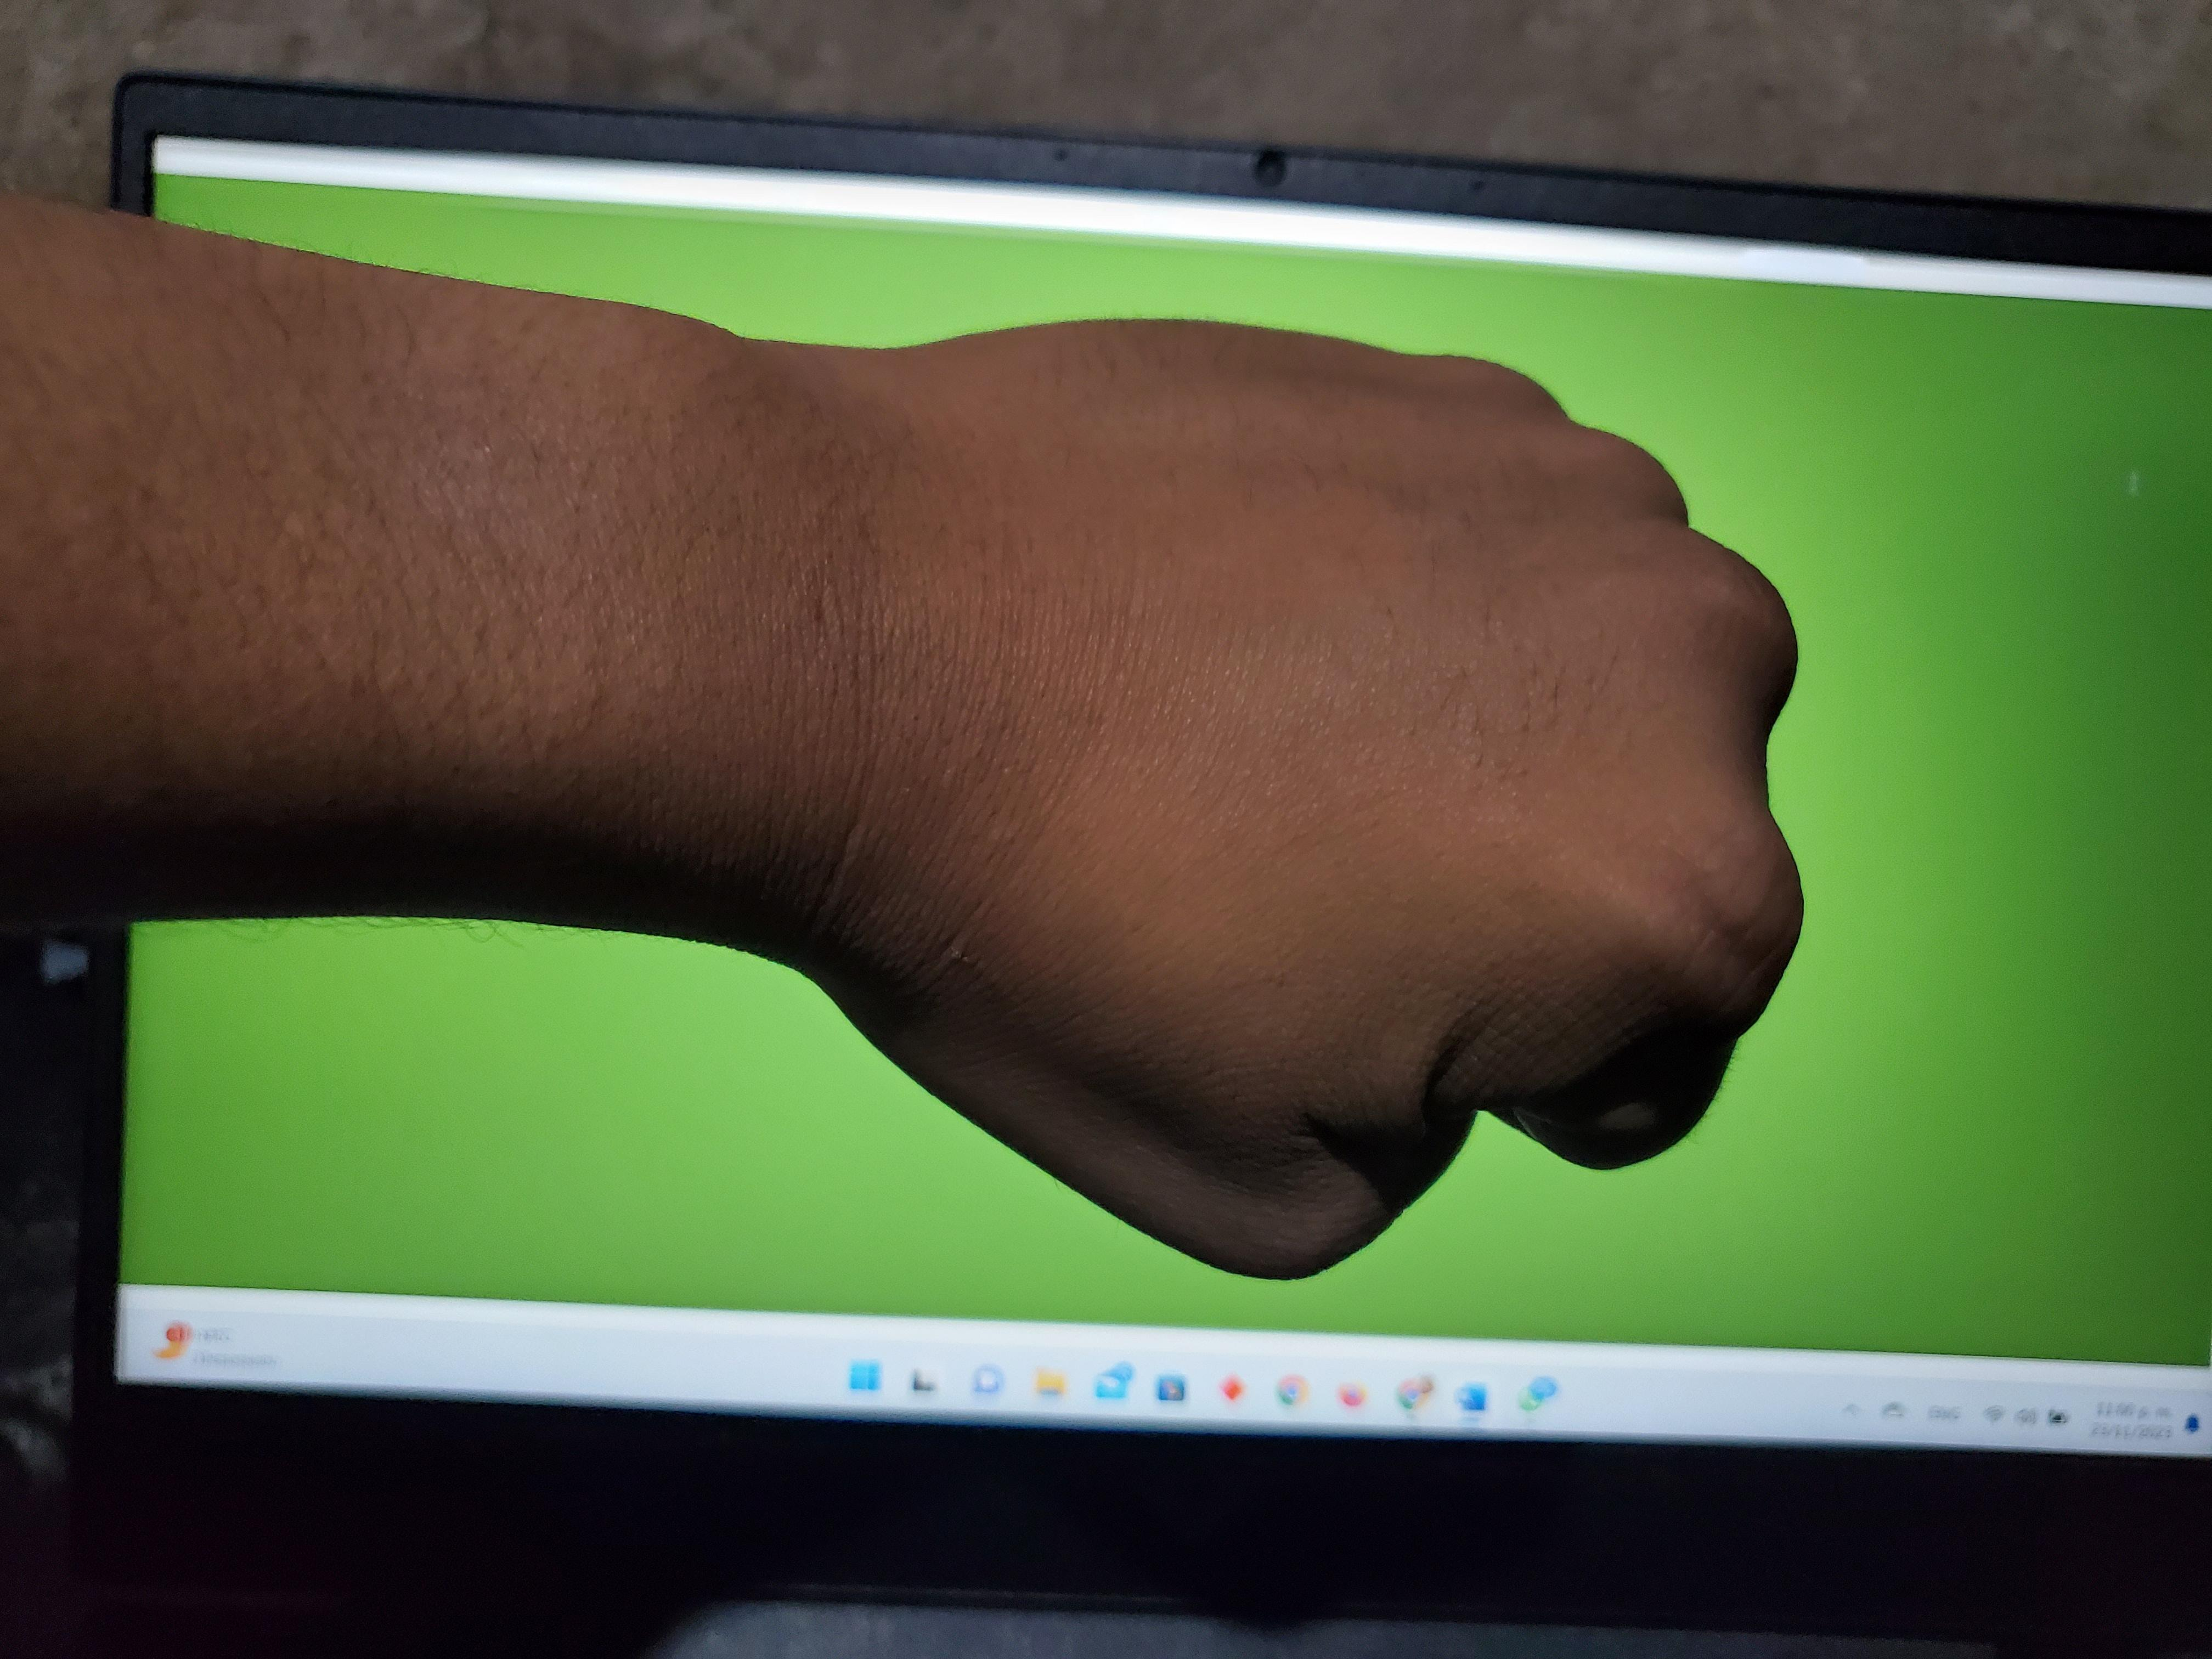Stone: (681, 73, 1972, 1382)
